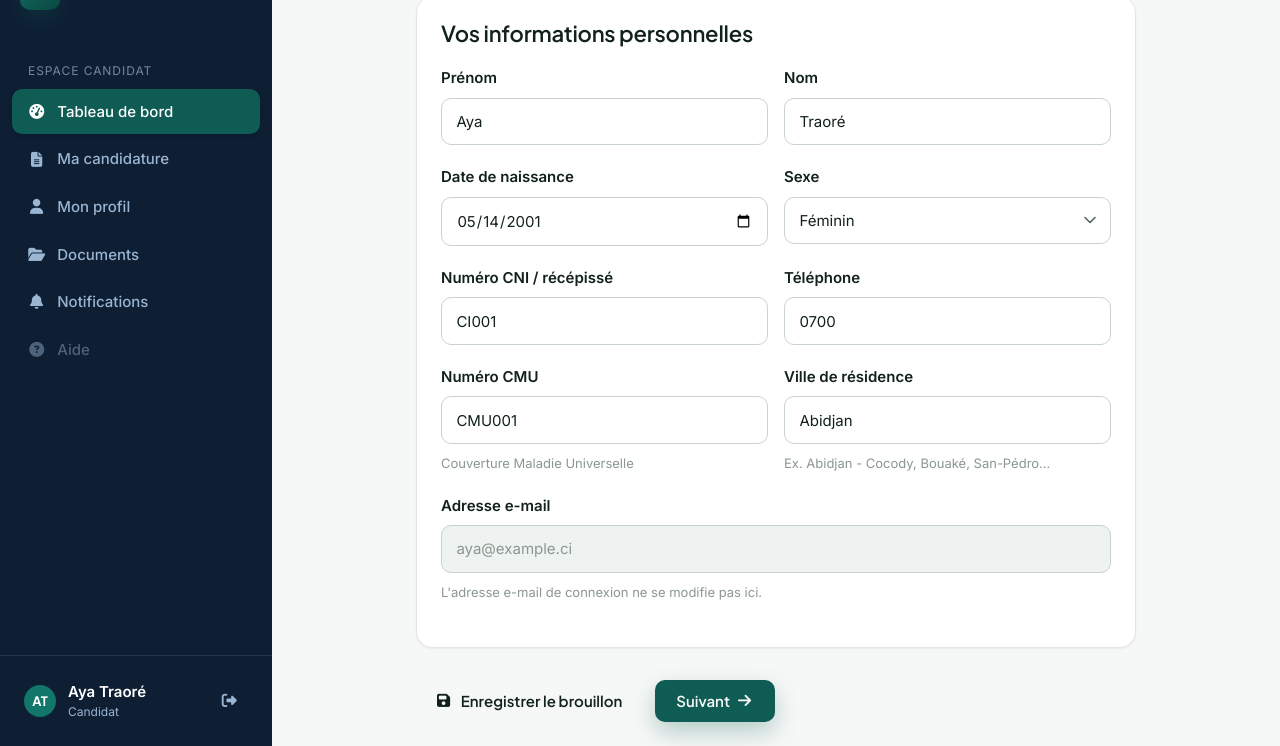
Test: CandidatureWizard › étape 2 : crée la candidature puis la confirme
(page scrolled)
Expected: the heading "Vos informations personnelles" is shown, [441,19,753,47]
Click the button "Suivant". click: (715, 701)
box: [655,680,775,722]
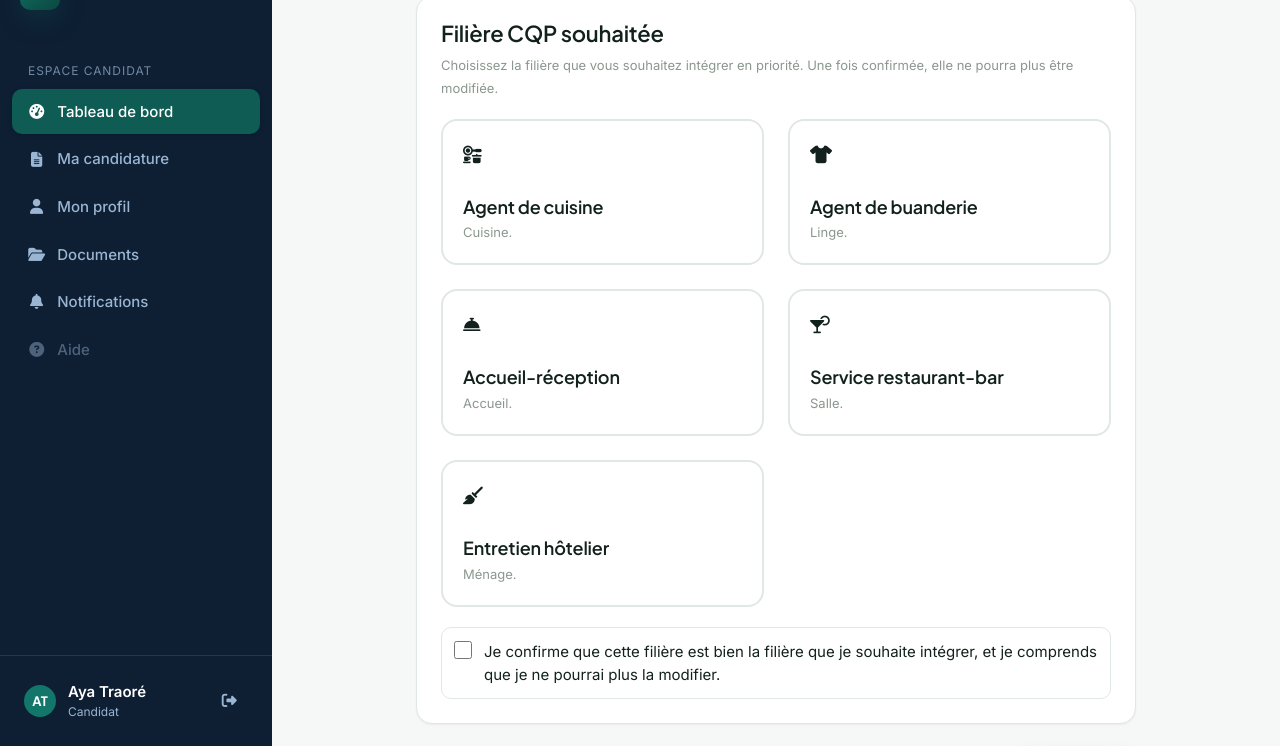
# Choisir une filière + cocher la confirmation
Click the button "Agent de cuisine Cuisine.". click: (602, 192)
box: [441,119,764,265]
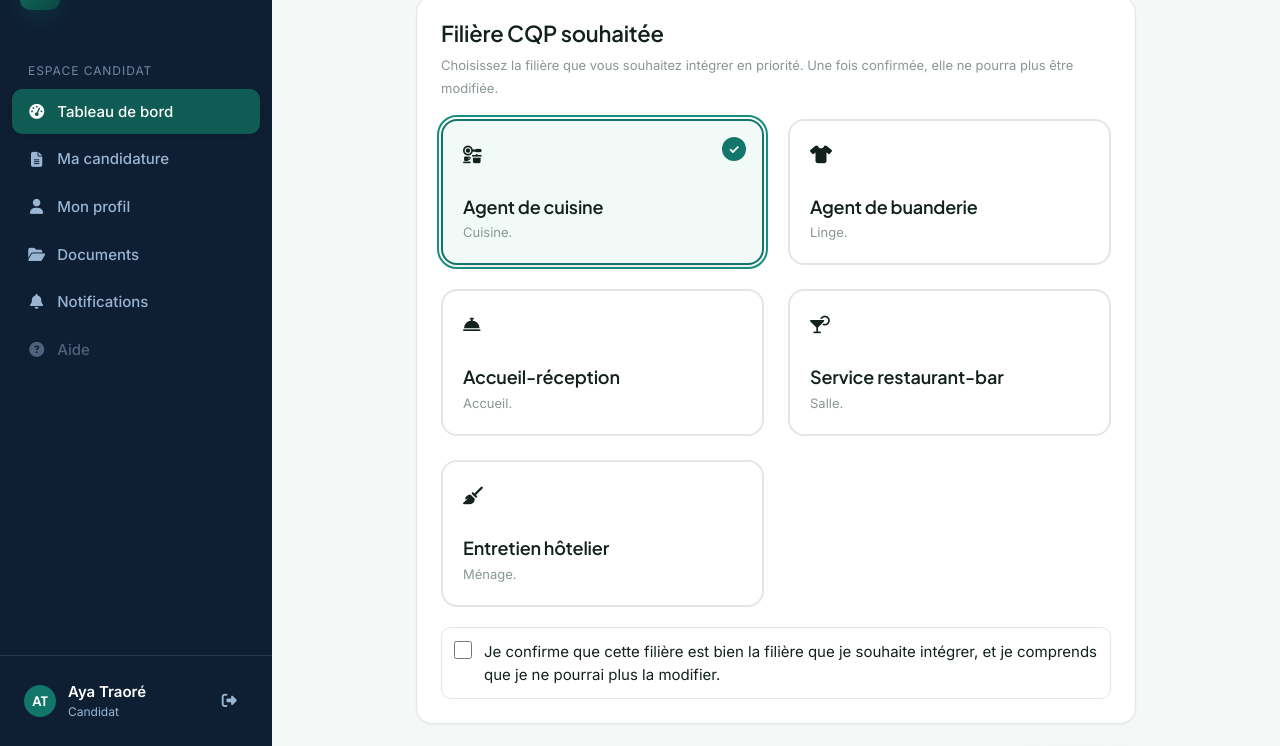
Click the checkbox labelled "Je confirme". click: (463, 650)
box: [454,641,472,659]
(page scrolled)
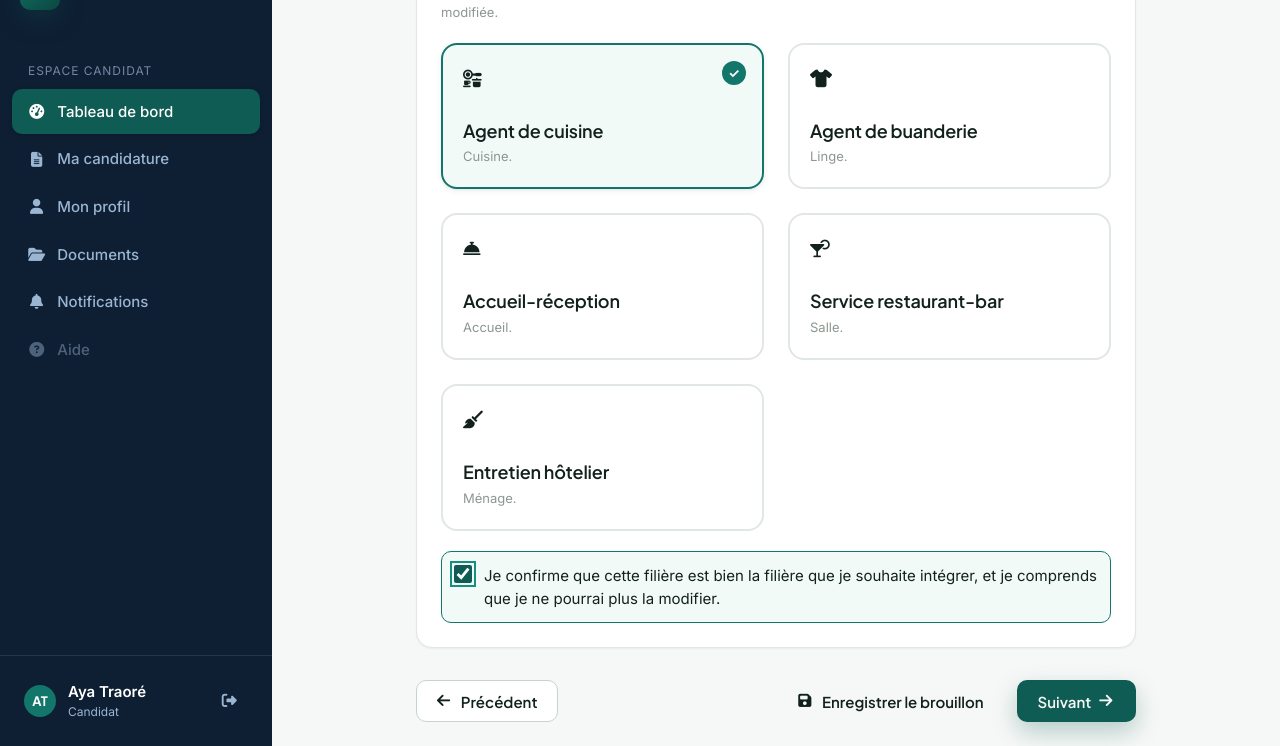
Click the button "Suivant". click: (1076, 701)
box: [1017,680,1136,722]
(page scrolled)
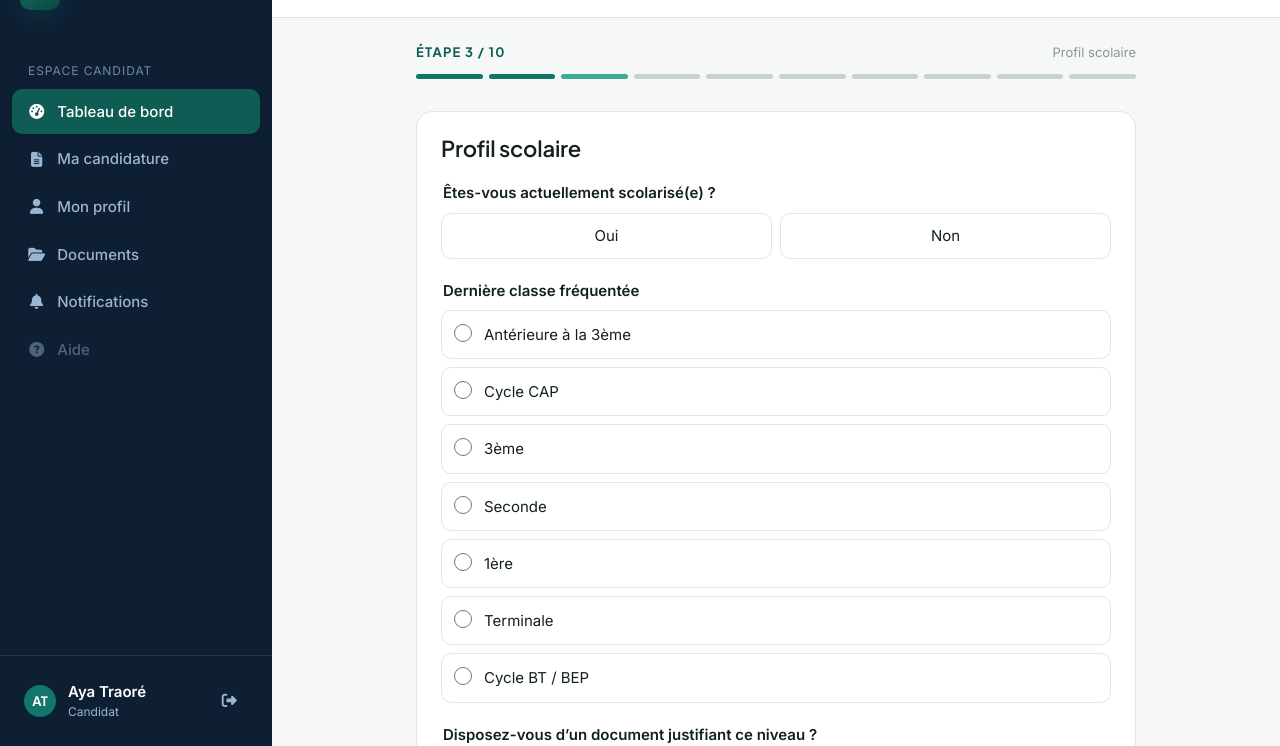
Now the text "Étape 3 / 10" is shown, box [416,42,506,62]
